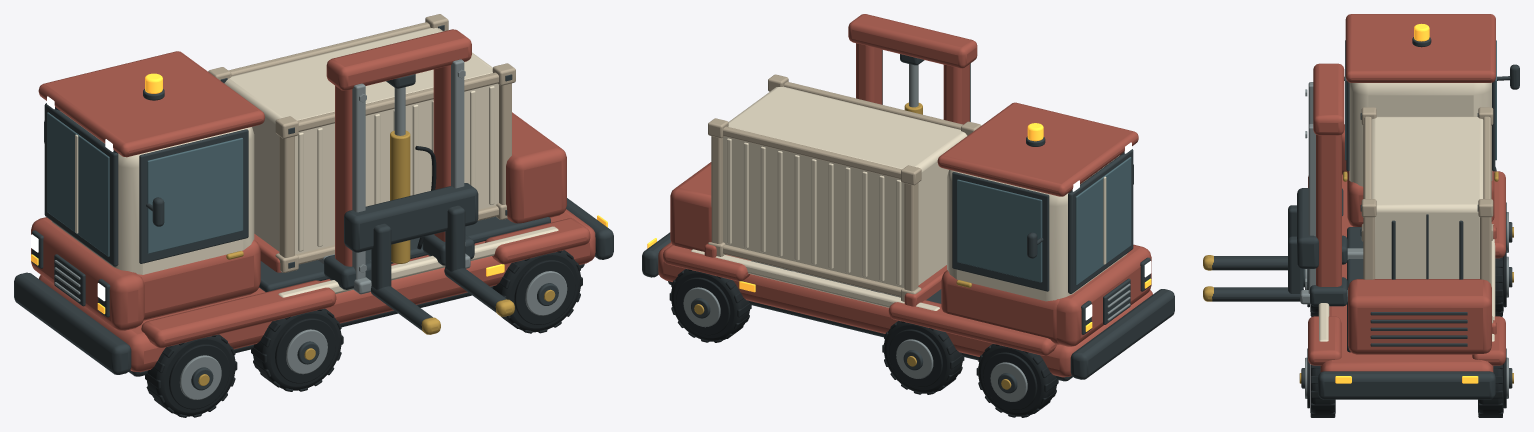
File: side_loading_freight_shuttle.glb
3 renders of one model, left to right at view 1: azimuth 30°, elevation 25°; view 2: azimuth 150°, elevation 25°; view 3: azimuth 270°, elevation 25°, orthographic. The views are drawn at different scales.
Visible parts, largest first — view 1: ContainerBody, CabRoofCap, SideWindowPane_-1, LongLowChassis, FrontGlazing, FrontWheelFender_-1, CabLowerRedDoorBand, RearPowerPack, CarriageCrosshead, RedFrontNose, CabIvoryShell, MastTopBridge (+41 smaller); view 2: ContainerBody, CabRoofCap, SideWindowPane_1, LongLowChassis, FrontGlazing, CabLowerRedDoorBand, MastTopBridge, CabIvoryShell, RedFrontNose, FrontImpactBuffer, FrontWheelFender_1, RearPowerPack (+35 smaller); view 3: ContainerBody, CabRoofCap, RearPowerPack, CabIvoryShell, RearImpactBuffer, MastOuterRedHousing_2, LongLowChassis, MastTopBridge, RearWheelFender_-1, CarriageCrosshead, SidewaysFork_2, SidewaysFork_1 (+23 smaller).
Boxes of the visible parts, left/top/right/bottom form: ContainerBody: left=224, top=27, right=498, bottom=254; CabRoofCap: left=38, top=51, right=264, bottom=157; SideWindowPane_-1: left=147, top=137, right=243, bottom=253; LongLowChassis: left=39, top=209, right=595, bottom=372; FrontGlazing: left=47, top=112, right=109, bottom=256; FrontWheelFender_-1: left=141, top=280, right=336, bottom=347; CabLowerRedDoorBand: left=138, top=240, right=260, bottom=320; RearPowerPack: left=506, top=112, right=566, bottom=223; CarriageCrosshead: left=344, top=183, right=478, bottom=252; RedFrontNose: left=31, top=217, right=144, bottom=330; CabIvoryShell: left=51, top=111, right=254, bottom=274; MastTopBridge: left=326, top=29, right=471, bottom=90; ContainerBody: left=723, top=86, right=967, bottom=287; CabRoofCap: left=937, top=102, right=1138, bottom=196; SideWindowPane_1: left=957, top=179, right=1042, bottom=282; LongLowChassis: left=658, top=242, right=1152, bottom=377; FrontGlazing: left=1075, top=157, right=1131, bottom=285; CabLowerRedDoorBand: left=941, top=270, right=1059, bottom=344; MastTopBridge: left=848, top=14, right=977, bottom=68; CabIvoryShell: left=947, top=155, right=1127, bottom=301; RedFrontNose: left=1056, top=244, right=1151, bottom=346; FrontImpactBuffer: left=1070, top=289, right=1174, bottom=379; FrontWheelFender_1: left=888, top=300, right=1056, bottom=355; RearPowerPack: left=670, top=162, right=711, bottom=251; ContainerBody: left=1371, top=116, right=1483, bottom=278; CabRoofCap: left=1345, top=14, right=1495, bottom=82; RearPowerPack: left=1348, top=279, right=1491, bottom=354; CabIvoryShell: left=1349, top=82, right=1492, bottom=186; RearImpactBuffer: left=1318, top=371, right=1495, bottom=399; MastOuterRedHousing_2: left=1316, top=134, right=1341, bottom=286; LongLowChassis: left=1320, top=175, right=1493, bottom=372; MastTopBridge: left=1313, top=63, right=1344, bottom=135; RearWheelFender_-1: left=1308, top=316, right=1341, bottom=365; CarriageCrosshead: left=1297, top=188, right=1318, bottom=268; SidewaysFork_2: left=1212, top=287, right=1303, bottom=301; SidewaysFork_1: left=1212, top=256, right=1287, bottom=270.
Bounding box in the file's own units: 6.12 × 3.6 × 3.86.
